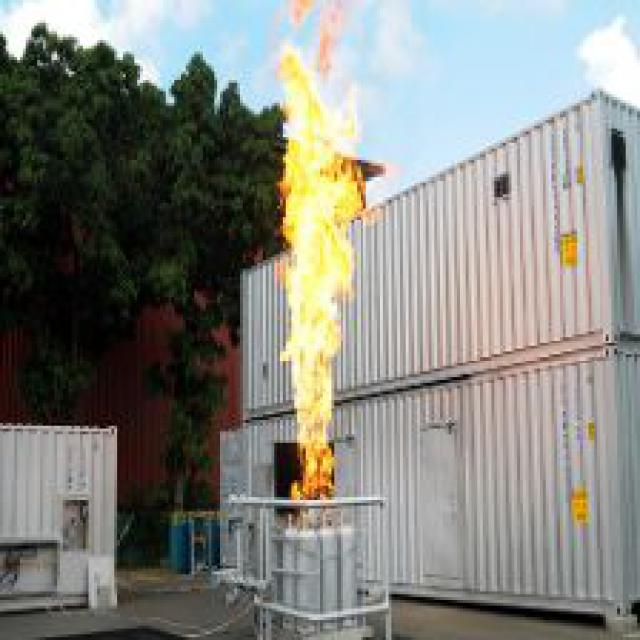fire: (266, 14, 386, 609)
